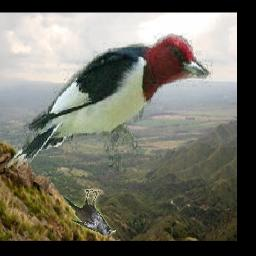Crow: (66, 189, 117, 235)
Woodpecker: (5, 23, 213, 177)
